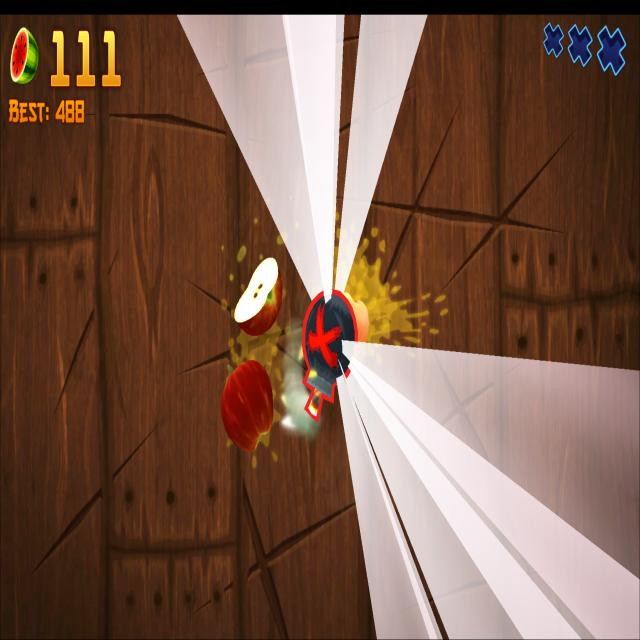bomb: (303, 289, 358, 421)
